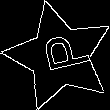P_W: (29, 32, 90, 80)
